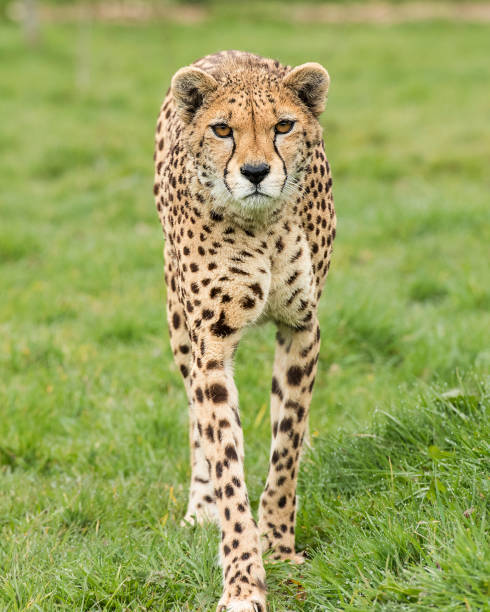cheetah: (138, 53, 365, 245)
